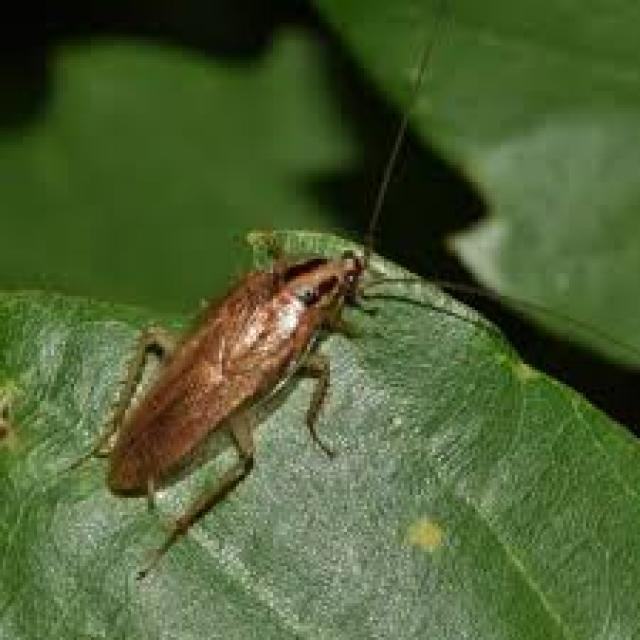Cockroach: (64, 113, 616, 592)
